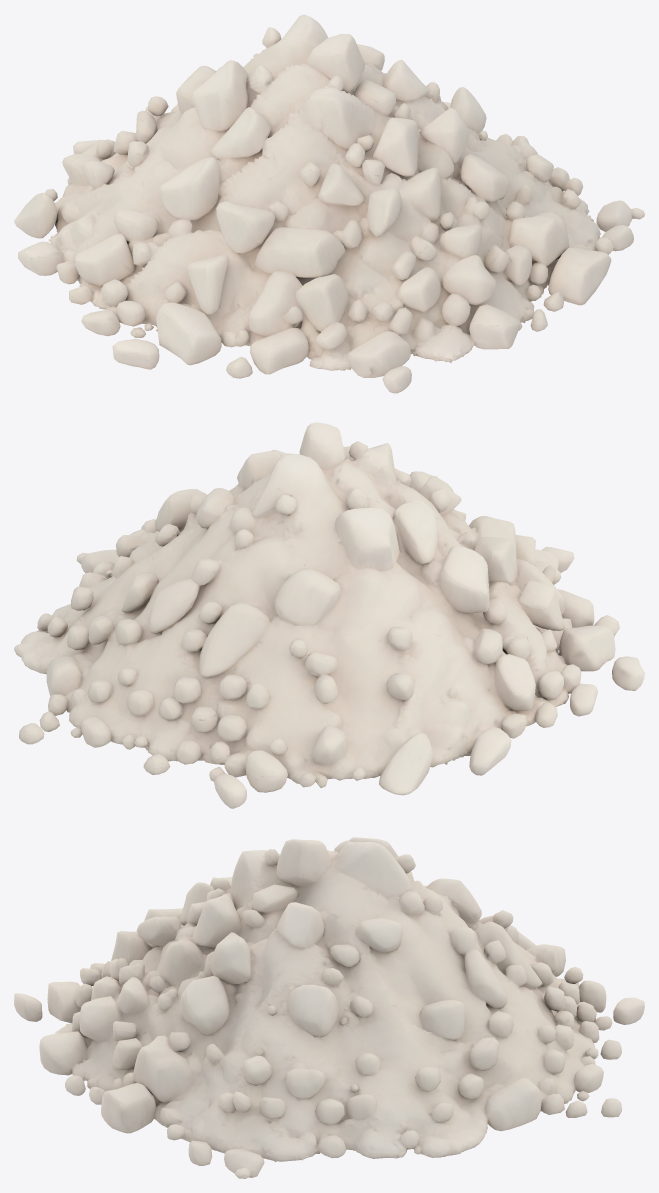
Rendered from lod_basic_shaded.fbx.
The picture shows the model from 3 angles, top to bottom: view 1: azimuth 30°, elevation 25°; view 2: azimuth 150°, elevation 25°; view 3: azimuth 270°, elevation 25°; orthographic projection. The views are drawn at different scales.
Visible parts, largest first — view 1: model_LOD0; view 2: model_LOD0; view 3: model_LOD0.
Boxes of the visible parts, x1,y1,x2,y2 form: model_LOD0: [14, 14, 644, 393]; model_LOD0: [14, 422, 644, 808]; model_LOD0: [14, 837, 644, 1178].
Size of what is drawn, in the model's own units: 183 by 74.62 by 189.
